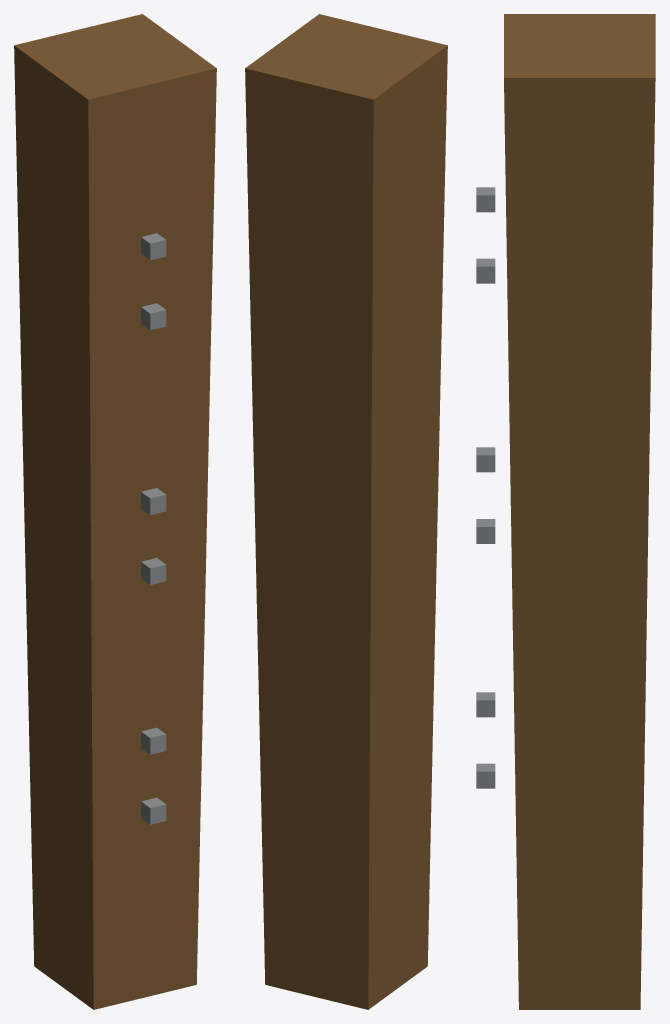
File: SM_Props_FenceBoarder_02.obj
3 views of the same model, side by side, from view 1: azimuth 30°, elevation 25°; view 2: azimuth 150°, elevation 25°; view 3: azimuth 270°, elevation 25° (orthographic). The views are drawn at different scales.
Parts seen in each view (by area): view 1: SM_Props_FenceBoarder_02_Mat_SwatchOverlay_Farm_Main_01_Inst; view 2: SM_Props_FenceBoarder_02_Mat_SwatchOverlay_Farm_Main_01_Inst; view 3: SM_Props_FenceBoarder_02_Mat_SwatchOverlay_Farm_Main_01_Inst.
Part boxes in pixels (x1,y1,x2,y2): SM_Props_FenceBoarder_02_Mat_SwatchOverlay_Farm_Main_01_Inst: (14, 14, 216, 1009); SM_Props_FenceBoarder_02_Mat_SwatchOverlay_Farm_Main_01_Inst: (245, 14, 447, 1009); SM_Props_FenceBoarder_02_Mat_SwatchOverlay_Farm_Main_01_Inst: (476, 14, 655, 1009).
Bounding box in the file's own units: 0.1611 × 1.1 × 0.1903.
Materials: 1 (1 with a texture image).
